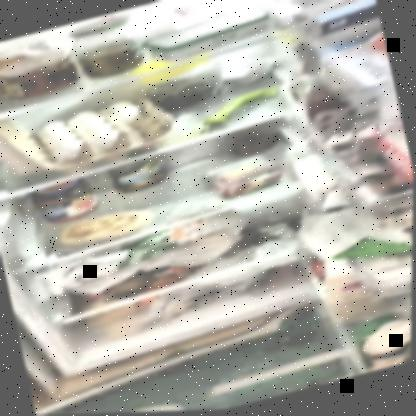cream_cheese: (146, 8, 274, 65)
eggs: (46, 99, 145, 162)
green_chillies: (196, 87, 281, 133)
olives: (158, 79, 224, 113)
